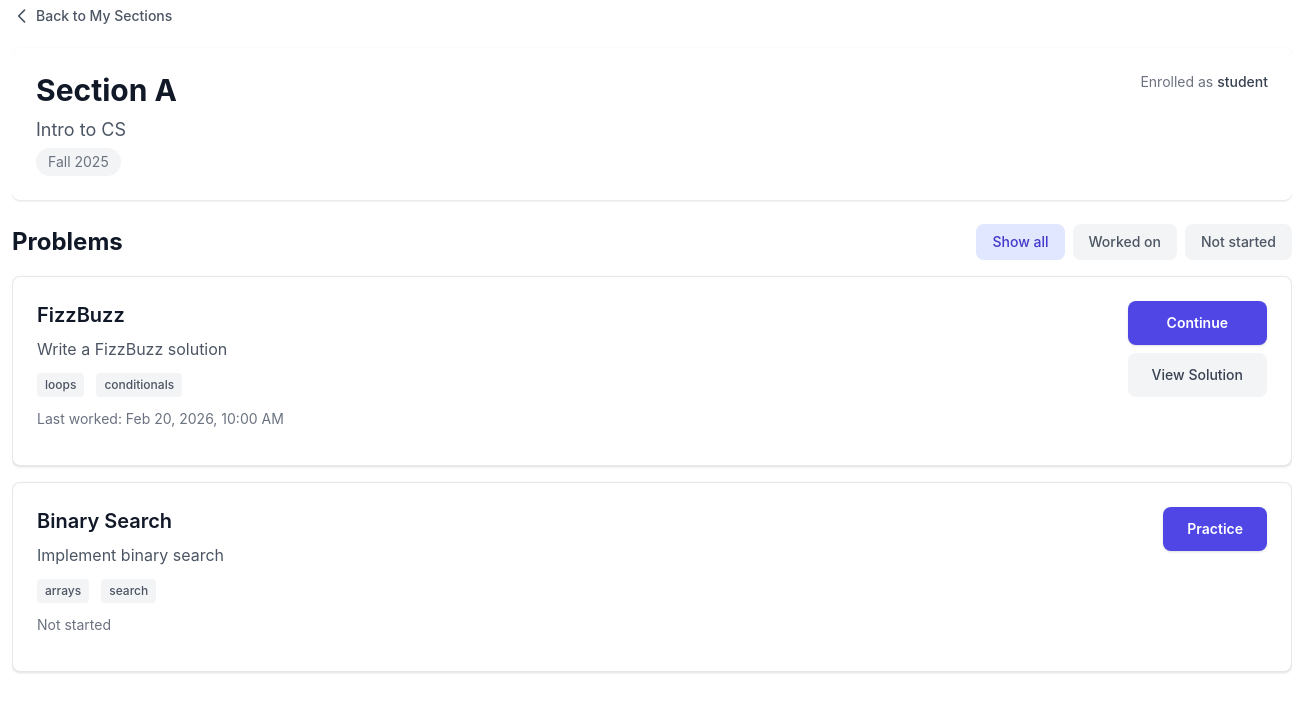
Test: SectionDetailPage › student view: problem-centric list › filters to only worked-on problems when "Worked on" toggle is clicked
Check: the heading "FizzBuzz" is shown, box x1=37 y1=301 x2=125 y2=329
Check: the heading "Binary Search" is shown, box x1=37 y1=507 x2=172 y2=535
// Click "Worked on" filter
Click the button "Worked on": (1125, 242) x1=1072 y1=224 x2=1177 y2=260
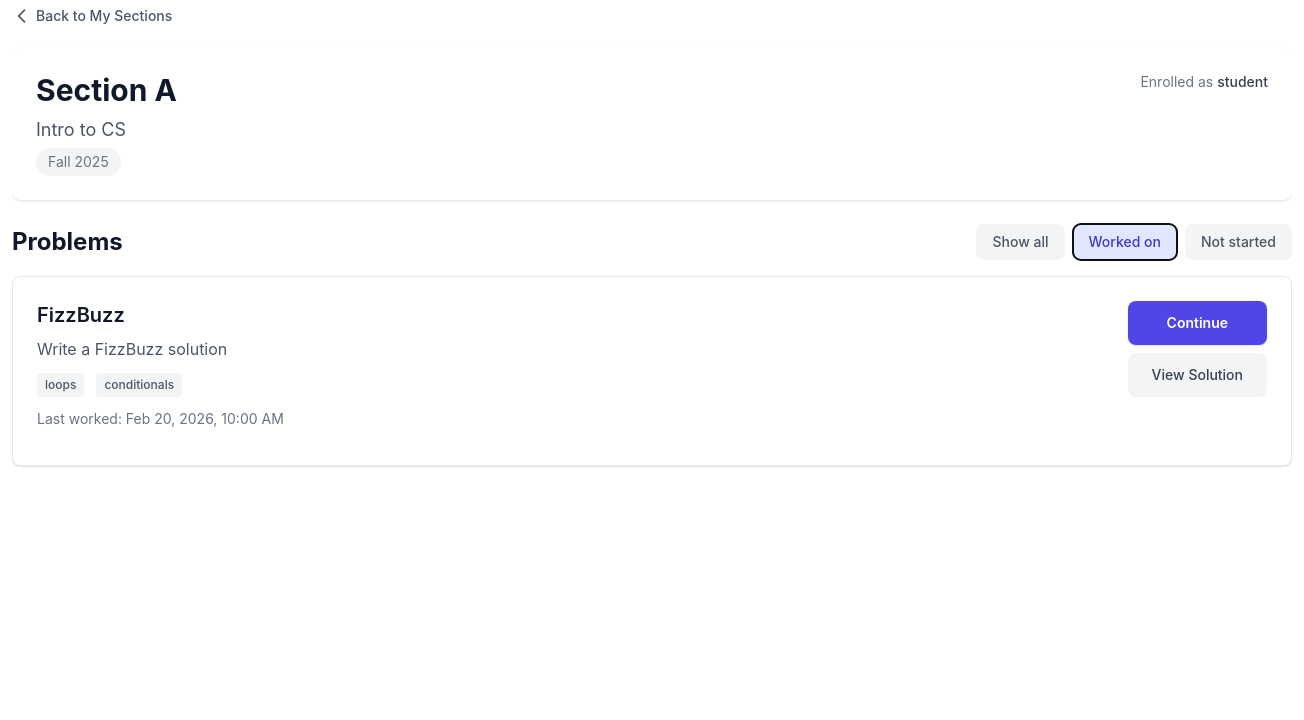
Check: the heading "FizzBuzz" is shown, box x1=37 y1=301 x2=125 y2=329
Check: the heading "Binary Search" is gone
